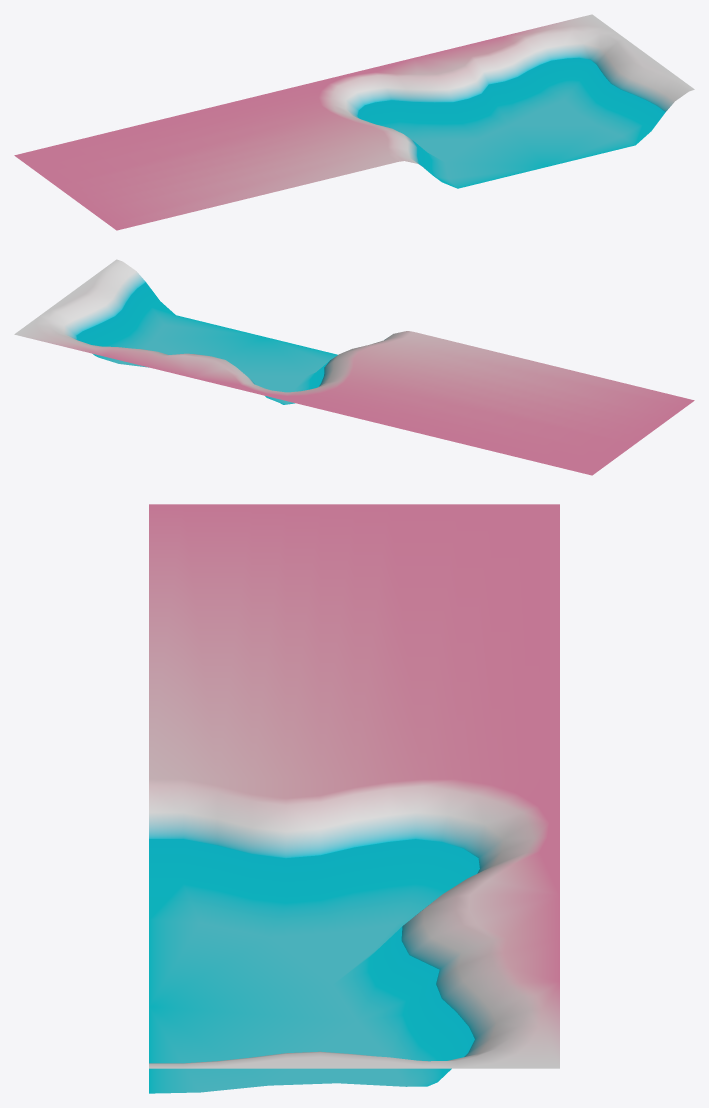
The model's file is Side-forest-water_start_01.glb.
The picture shows the model from 3 angles, top to bottom: view 1: azimuth 30°, elevation 25°; view 2: azimuth 150°, elevation 25°; view 3: azimuth 270°, elevation 25°; orthographic projection. The views are drawn at different scales.
Parts seen in each view (by area): view 1: Side-forest-water_start_01; view 2: Side-forest-water_start_01; view 3: Side-forest-water_start_01.
Part boxes in pixels (box(x1,y1,x2,y2)): Side-forest-water_start_01: box(14, 14, 694, 230); Side-forest-water_start_01: box(14, 259, 694, 475); Side-forest-water_start_01: box(149, 504, 559, 1093).
Size of the model in its own units: 58.5 by 4 by 18.
